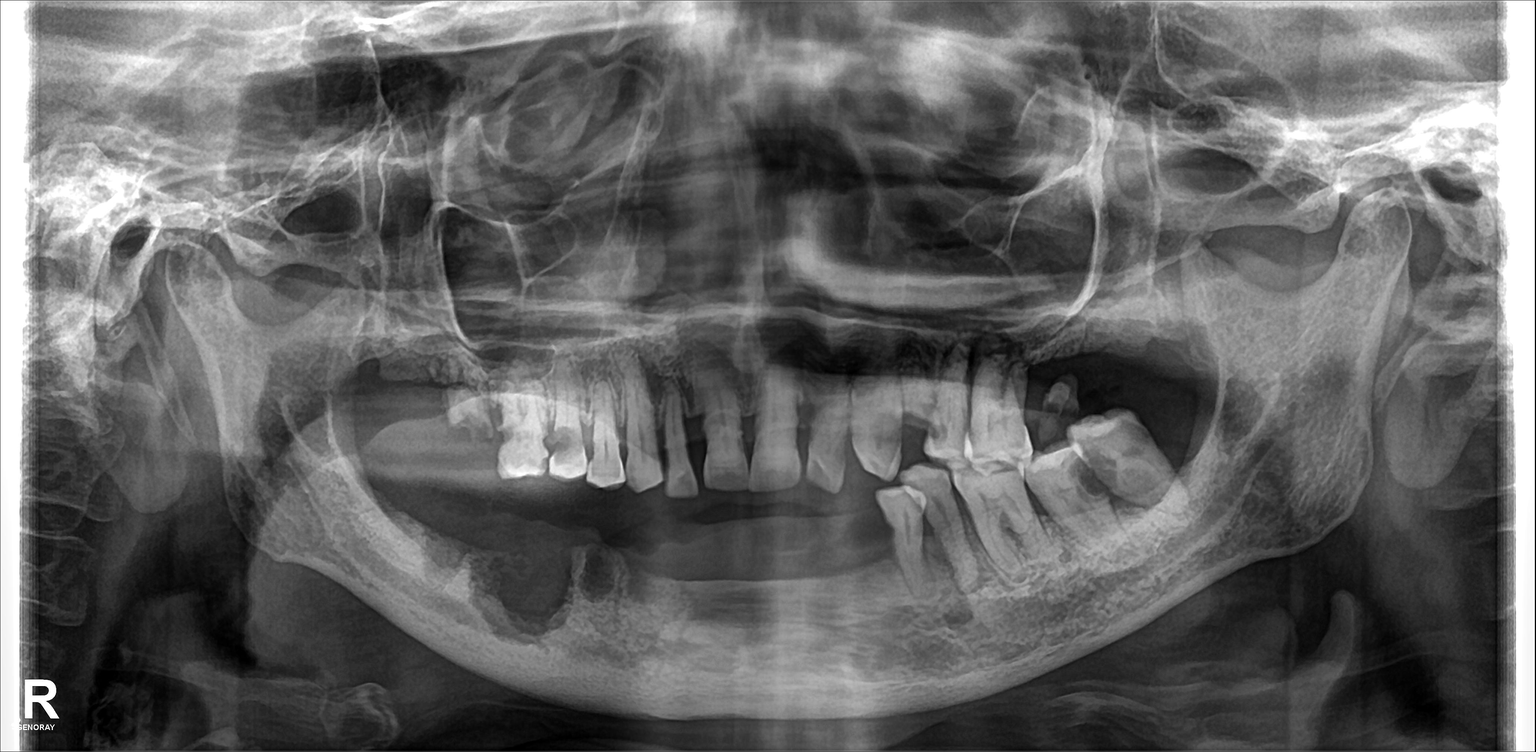Cyst: (453, 542, 617, 636)
Dental Caries: (1067, 456, 1120, 496), (544, 424, 581, 463)
Missing Tooth: (700, 521, 754, 646), (417, 490, 472, 609), (754, 523, 800, 657), (361, 478, 420, 578), (641, 523, 688, 642), (814, 536, 860, 651), (399, 344, 438, 468), (1156, 402, 1208, 487), (354, 342, 393, 448), (1156, 315, 1199, 396), (1110, 315, 1146, 401), (872, 527, 904, 620), (898, 382, 936, 460), (1073, 339, 1105, 422)
Periodontal Pocket: (555, 517, 633, 639)
Retained Root: (438, 363, 492, 474), (1037, 352, 1074, 439)
